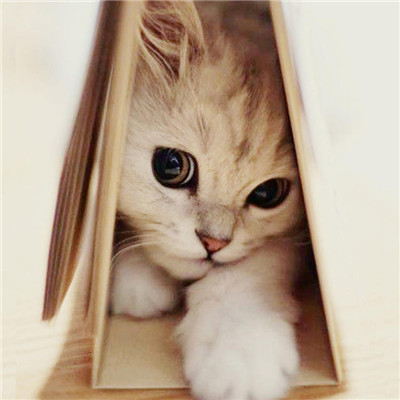cat: (112, 86, 312, 281)
